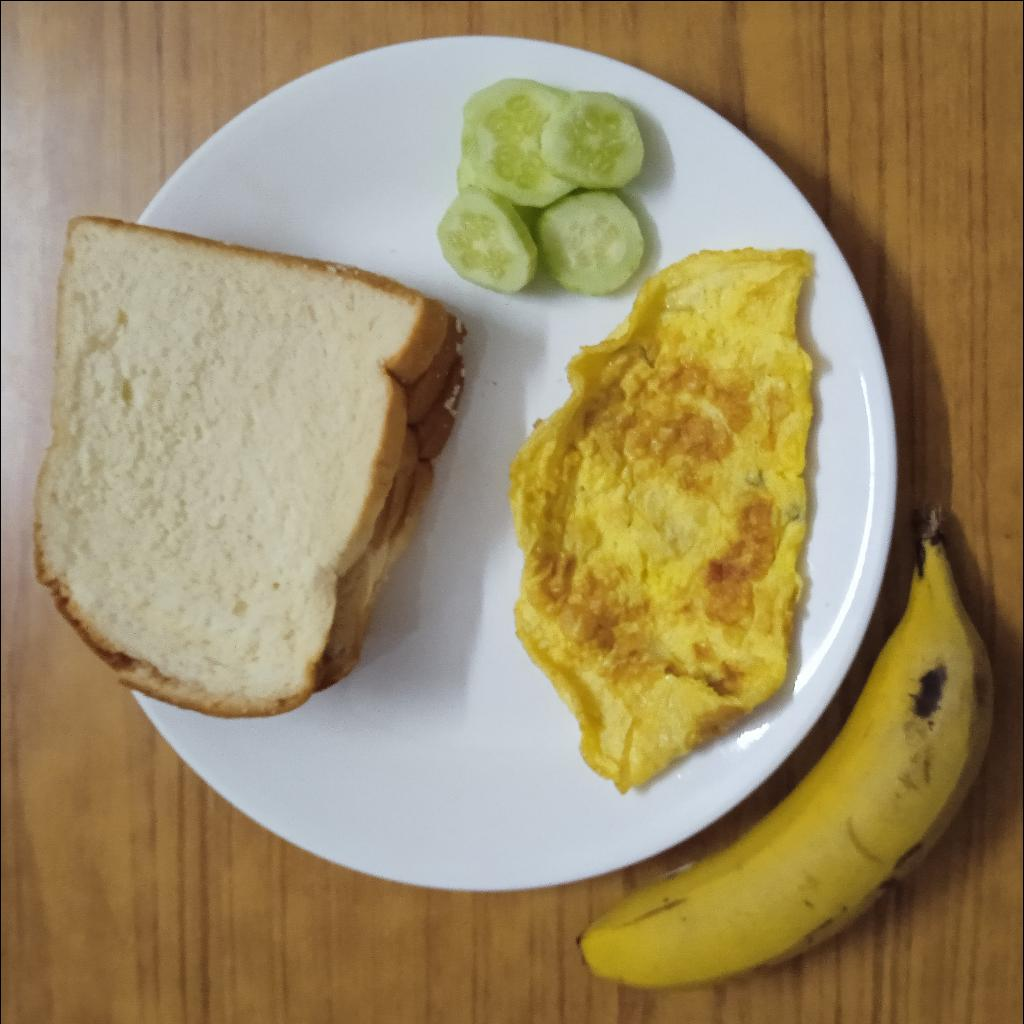banana: (576, 496, 999, 991)
bread: (26, 212, 472, 718)
cucumber: (436, 77, 646, 294)
egg-poached: (510, 242, 813, 795)
